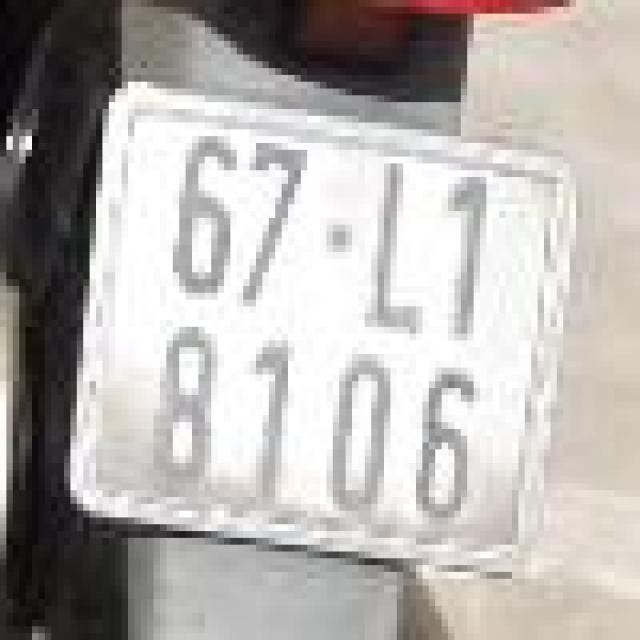0: (317, 354, 400, 511)
1: (445, 167, 515, 337), (246, 334, 298, 504)
6: (409, 361, 486, 524), (163, 129, 234, 293)
7: (243, 136, 307, 300)
8: (163, 323, 221, 487)
L: (365, 146, 429, 337)
